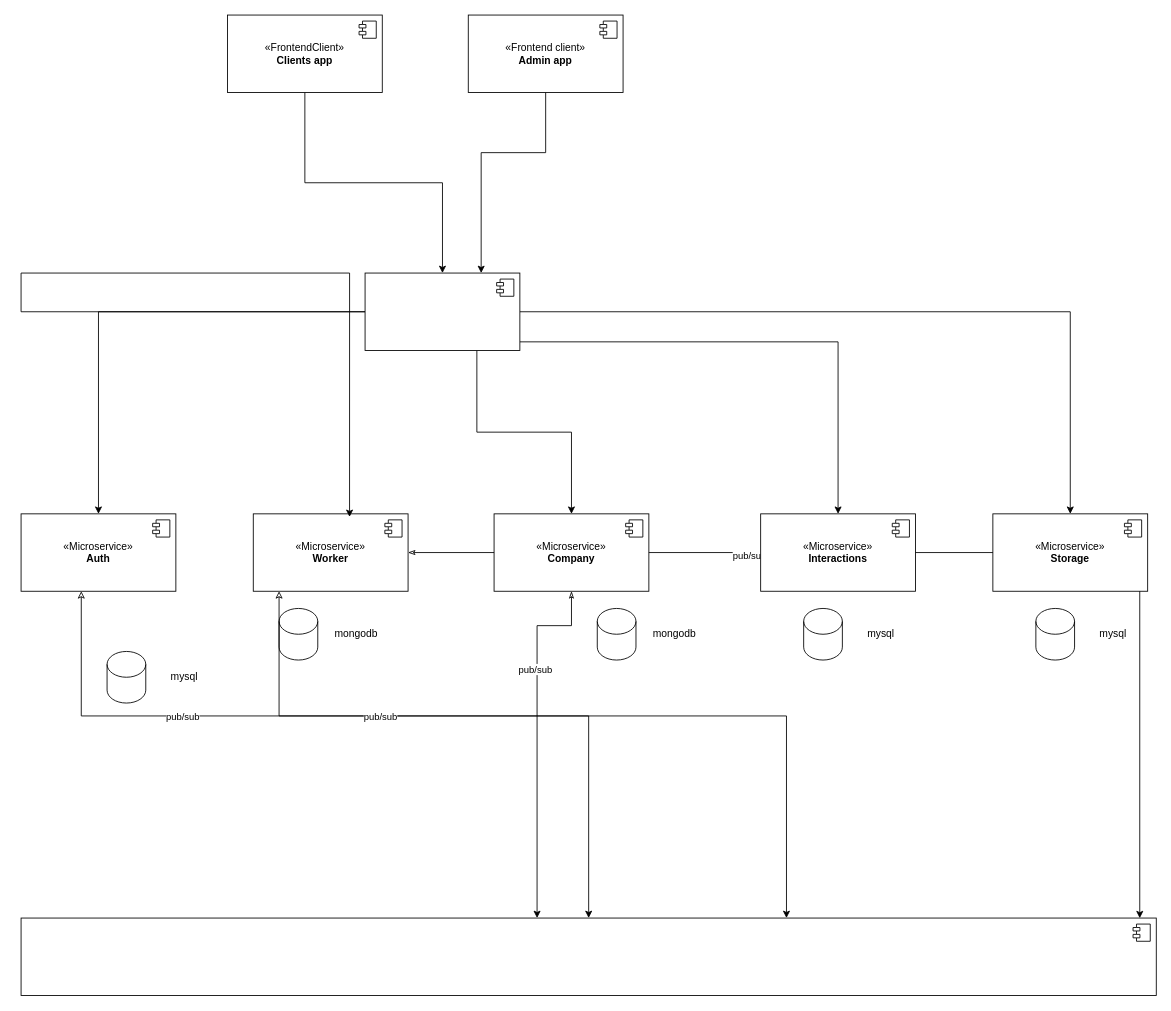
Image size: 1171x1011. Some labels were removed from this diagram. The shapes that lost their labels are listed below. From the top down, each one's centre as x and y in pixels, then its label:
At point 442,311: "«Microservice» Api Gateway".
At point 588,956: "«Broker | message queue» Kafka".
